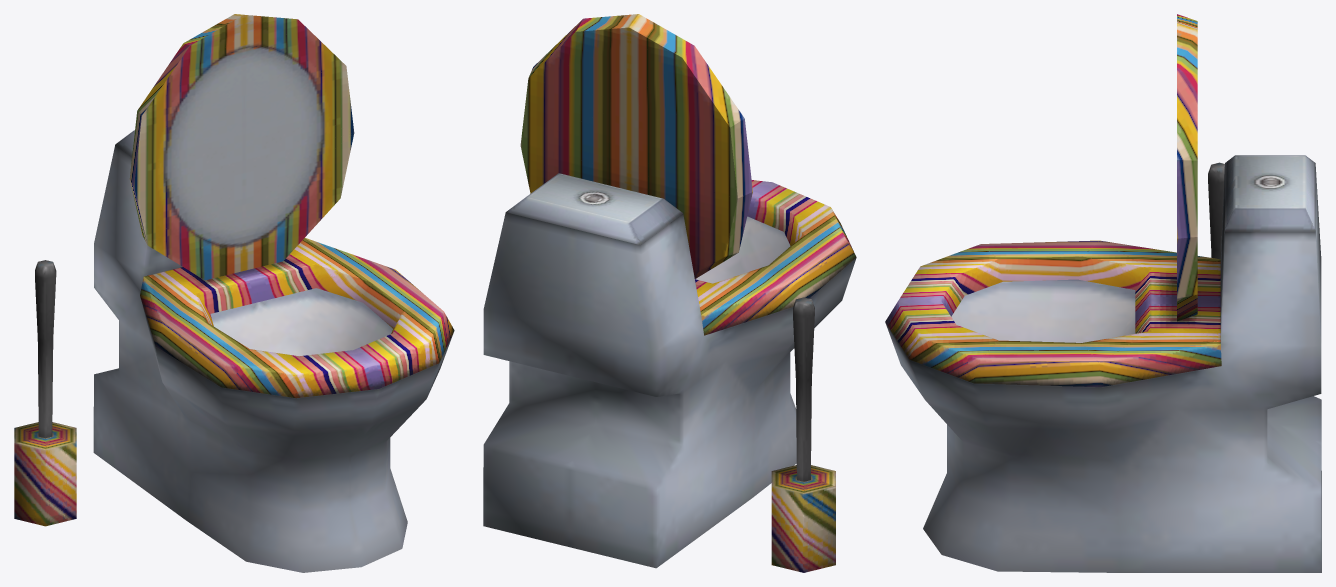
File: furni_0200624.FBX
3 renders of one model, left to right at view 1: azimuth 30°, elevation 25°; view 2: azimuth 150°, elevation 25°; view 3: azimuth 270°, elevation 25°, orthographic. The views are drawn at different scales.
Visible parts, largest first — view 1: furni_0200624; view 2: furni_0200624; view 3: furni_0200624.
Part boxes in pixels (x1=…): furni_0200624: x1=14, y1=14, x2=454, y2=572; furni_0200624: x1=483, y1=14, x2=856, y2=572; furni_0200624: x1=885, y1=14, x2=1321, y2=572.
Bounding box in the file's own units: 78.06 × 104 × 81.64.
1 material, 1 textured.
